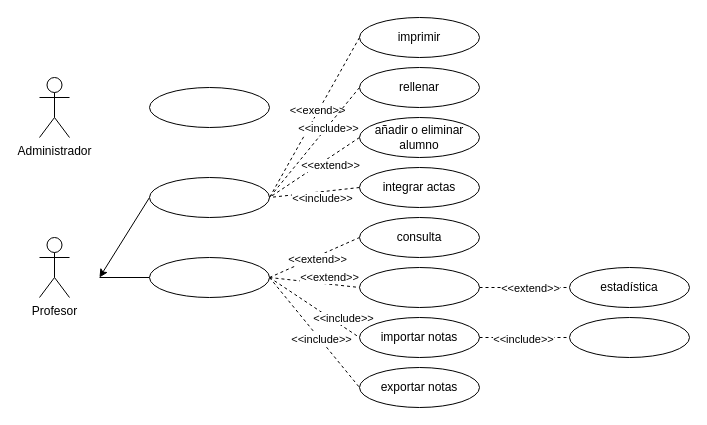
This 707x425 diagram has some shape labels left out. The shapes that lost their labels are listed below. From the top down, each one's box as (x1, y1, x2, y2) in pixels, then its label:
(148, 176, 270, 218): Gestión de actas
(148, 256, 270, 298): Gestión de alumnos
(358, 266, 480, 308): comparar info
(568, 316, 690, 358): Cálculo de notas
